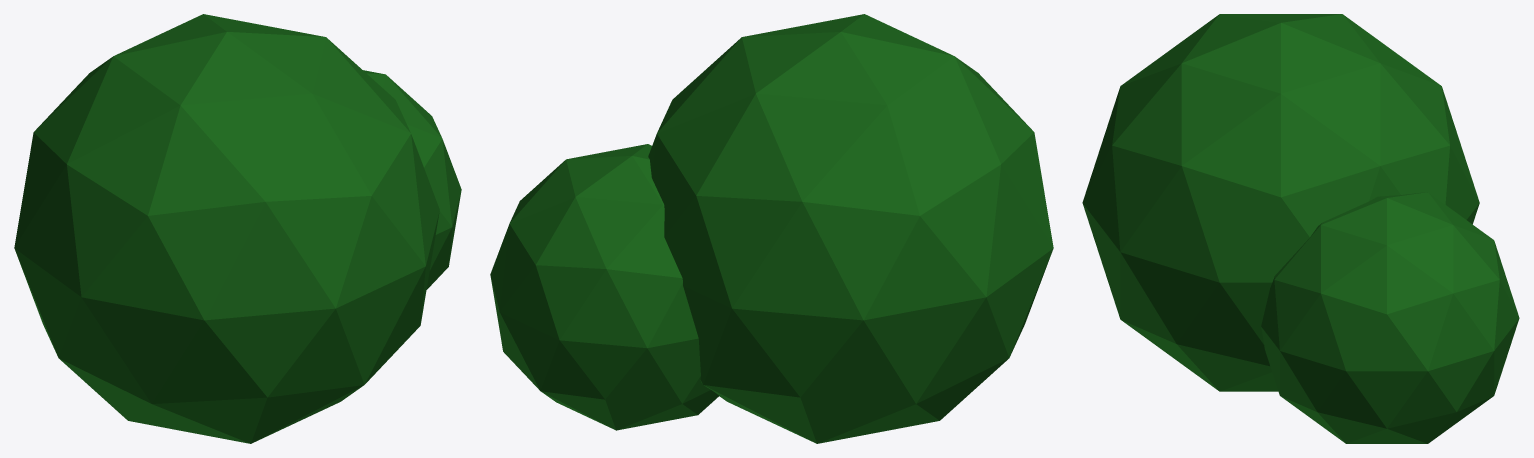
Rendered from Bush.obj.
3 views of the same model, side by side, from view 1: azimuth 30°, elevation 25°; view 2: azimuth 150°, elevation 25°; view 3: azimuth 270°, elevation 25° (orthographic). The views are drawn at different scales.
Visible parts, largest first — view 1: Icosphere.003, Icosphere.004; view 2: Icosphere.003, Icosphere.004; view 3: Icosphere.003, Icosphere.004.
Part boxes in pixels (x1=…): Icosphere.003: x1=14, y1=14, x2=439, y2=443; Icosphere.004: x1=363, y1=70, x2=461, y2=289; Icosphere.003: x1=648, y1=14, x2=1053, y2=443; Icosphere.004: x1=490, y1=144, x2=719, y2=430; Icosphere.003: x1=1082, y1=14, x2=1479, y2=391; Icosphere.004: x1=1261, y1=192, x2=1519, y2=443.
Bounding box in the file's own units: 3.58 × 3 × 3.3.
